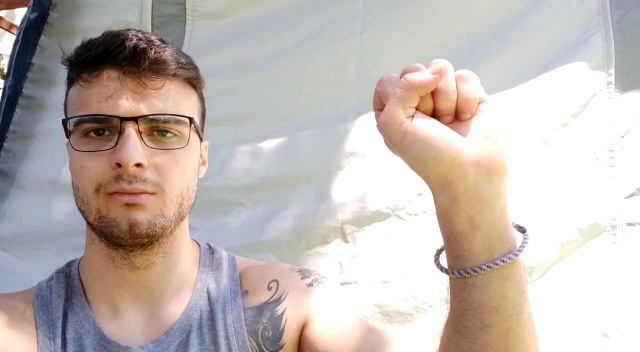Fist: (368, 53, 523, 184)
